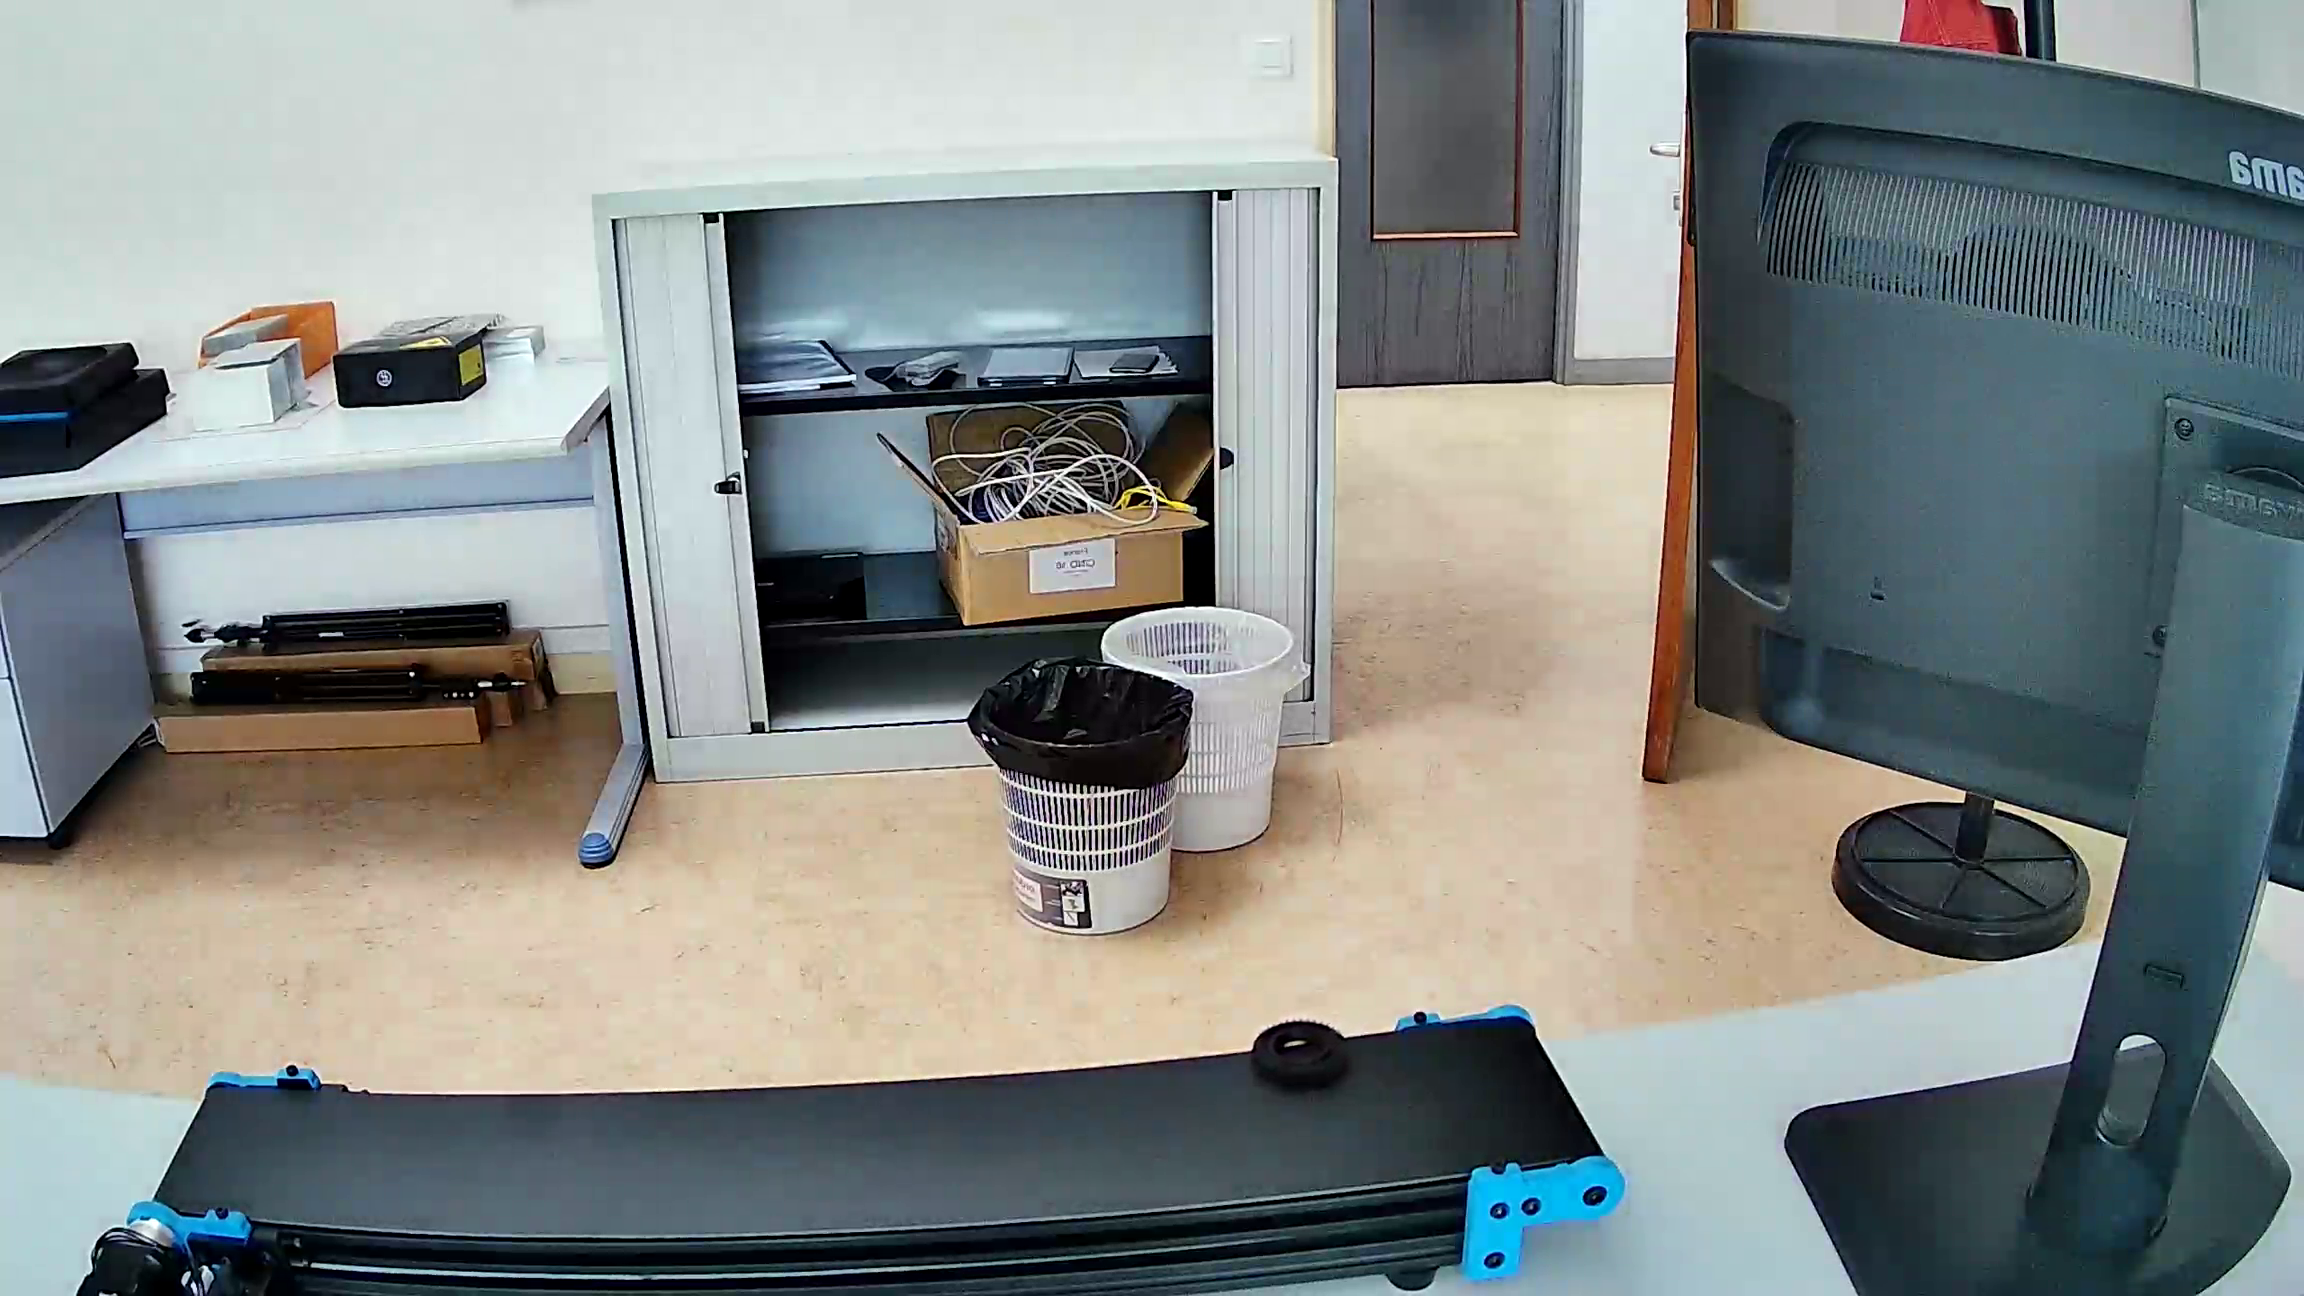good: (1249, 1021, 1351, 1095)
